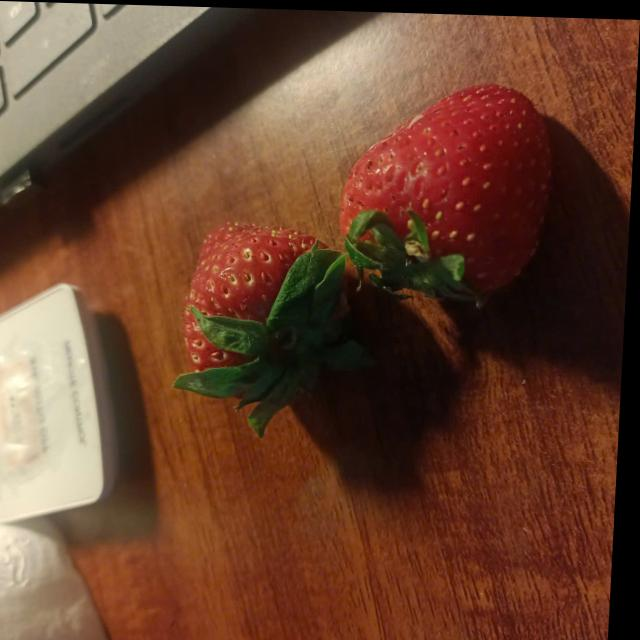DauTay: (327, 67, 569, 321), (169, 200, 377, 446)
